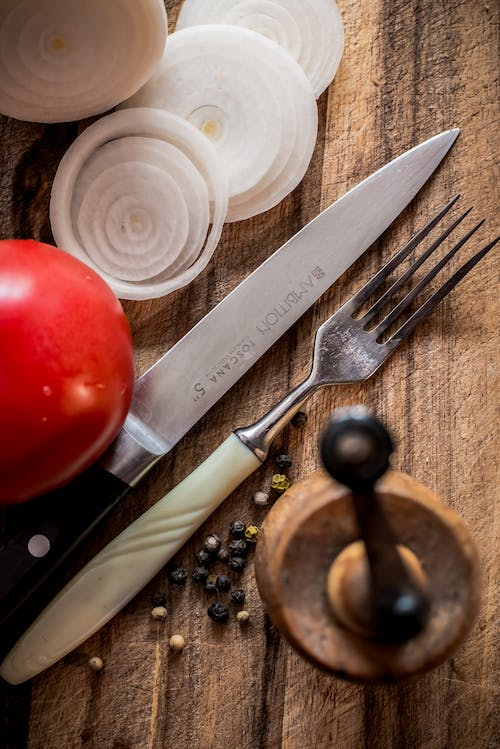knife: (0, 123, 464, 632)
